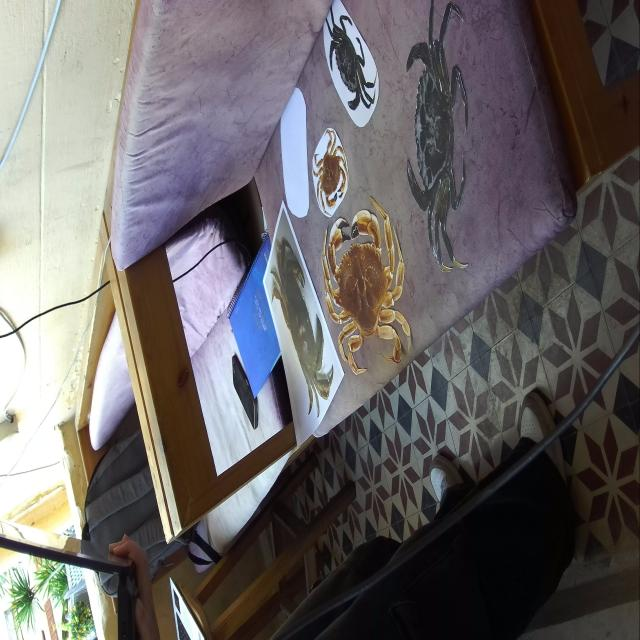European_Green_Crab: (406, 0, 468, 272), (311, 0, 385, 128)
